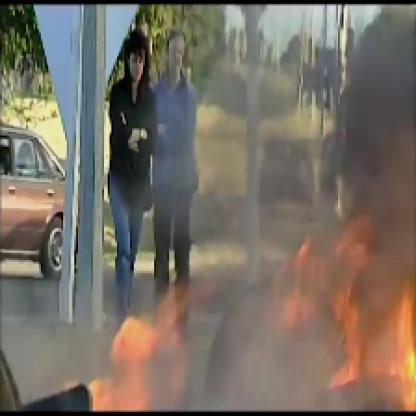Fire: (86, 217, 414, 414)
